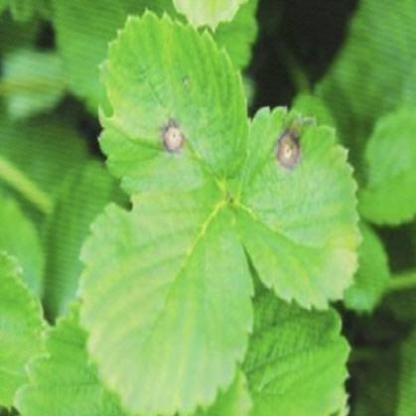Strawberry_Leaf_Spot: (96, 8, 250, 200), (235, 104, 365, 312)
